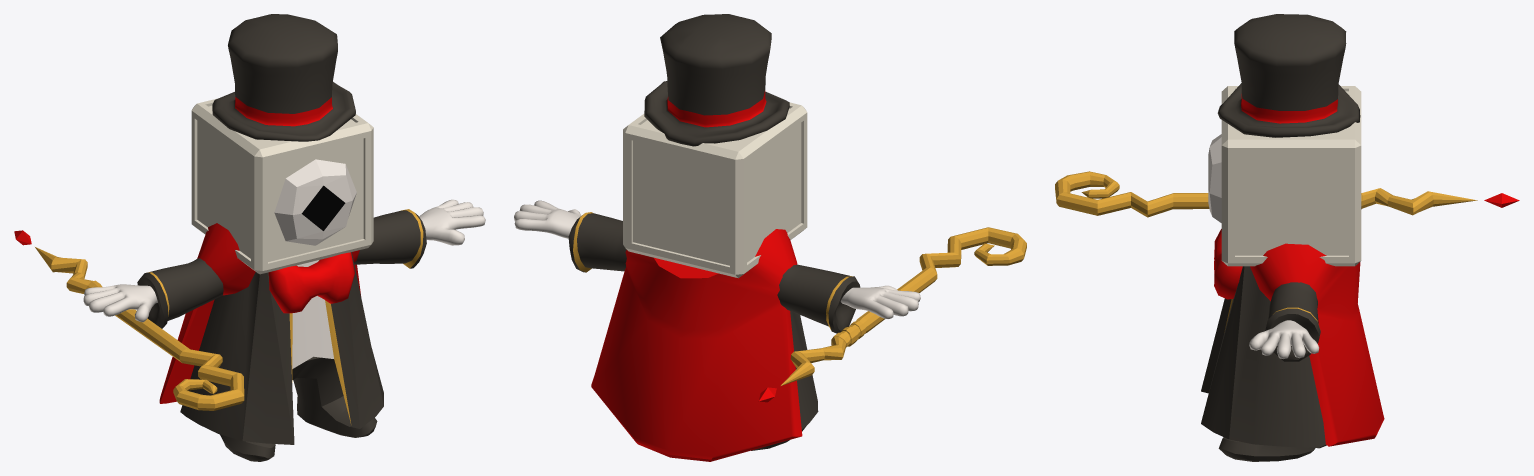
Rendered from SupportMagev03.fbx.
3 views of the same model, side by side, from view 1: azimuth 30°, elevation 25°; view 2: azimuth 150°, elevation 25°; view 3: azimuth 270°, elevation 25° (orthographic).
Parts seen in each view (by area): view 1: Personaje.003, polySurface2.001, Personaje.005, gem-bottom.001, Cube.001, Personaje.004, Arms.001, Plane.002; view 2: Personaje.004, polySurface2.001, Personaje.005, Personaje.003, gem-bottom.001, Arms.001; view 3: polySurface2.001, Personaje.003, Personaje.005, Personaje.004, gem-bottom.001, Arms.001, Cube.001, Plane.002.
Boxes of the visible parts, x1,y1,x2,y2 form: Personaje.003: [137, 209, 426, 461]; polySurface2.001: [191, 98, 373, 274]; Personaje.005: [212, 14, 355, 141]; gem-bottom.001: [14, 230, 244, 410]; Cube.001: [274, 159, 356, 245]; Personaje.004: [159, 223, 361, 403]; Arms.001: [83, 199, 485, 322]; Plane.002: [268, 252, 354, 313]; Personaje.004: [591, 229, 802, 461]; polySurface2.001: [623, 102, 807, 278]; Personaje.005: [644, 14, 789, 146]; Personaje.003: [568, 212, 860, 450]; gem-bottom.001: [758, 227, 1026, 402]; Arms.001: [514, 200, 920, 319]; polySurface2.001: [1221, 86, 1361, 266]; Personaje.003: [1201, 266, 1326, 461]; Personaje.005: [1217, 14, 1360, 137]; Personaje.004: [1250, 243, 1384, 446]; gem-bottom.001: [1055, 171, 1519, 217]; Arms.001: [1249, 320, 1319, 358]; Cube.001: [1208, 134, 1221, 222]; Plane.002: [1214, 229, 1242, 299].
Bounding box in the file's own units: 1.88 × 1.85 × 1.8.
